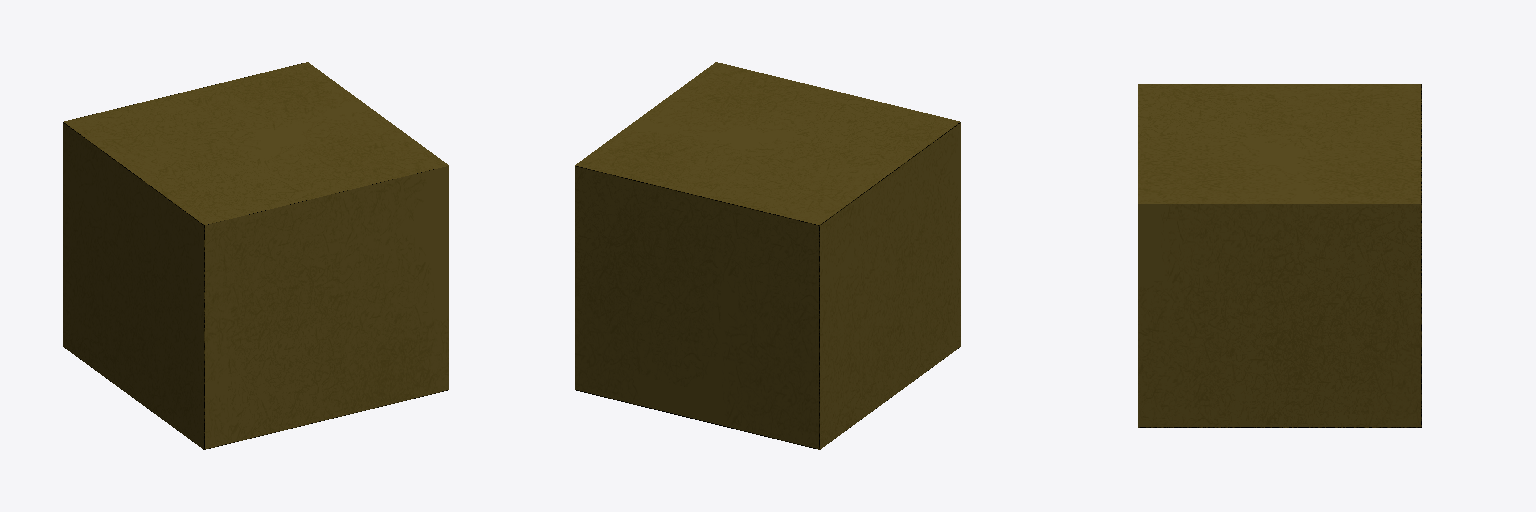
3 renders of one model, left to right at view 1: azimuth 30°, elevation 25°; view 2: azimuth 150°, elevation 25°; view 3: azimuth 270°, elevation 25°, orthographic.
Visible parts, largest first — view 1: dirt_wall_Cube.010; view 2: dirt_wall_Cube.010; view 3: dirt_wall_Cube.010.
Part boxes in pixels (left/top/right/bottom): dirt_wall_Cube.010: left=63, top=62, right=448, bottom=449; dirt_wall_Cube.010: left=575, top=62, right=960, bottom=449; dirt_wall_Cube.010: left=1138, top=84, right=1421, bottom=427.
Size of the model in its own units: 2 by 1.75 by 2.
Materials: 1 (1 with a texture image).